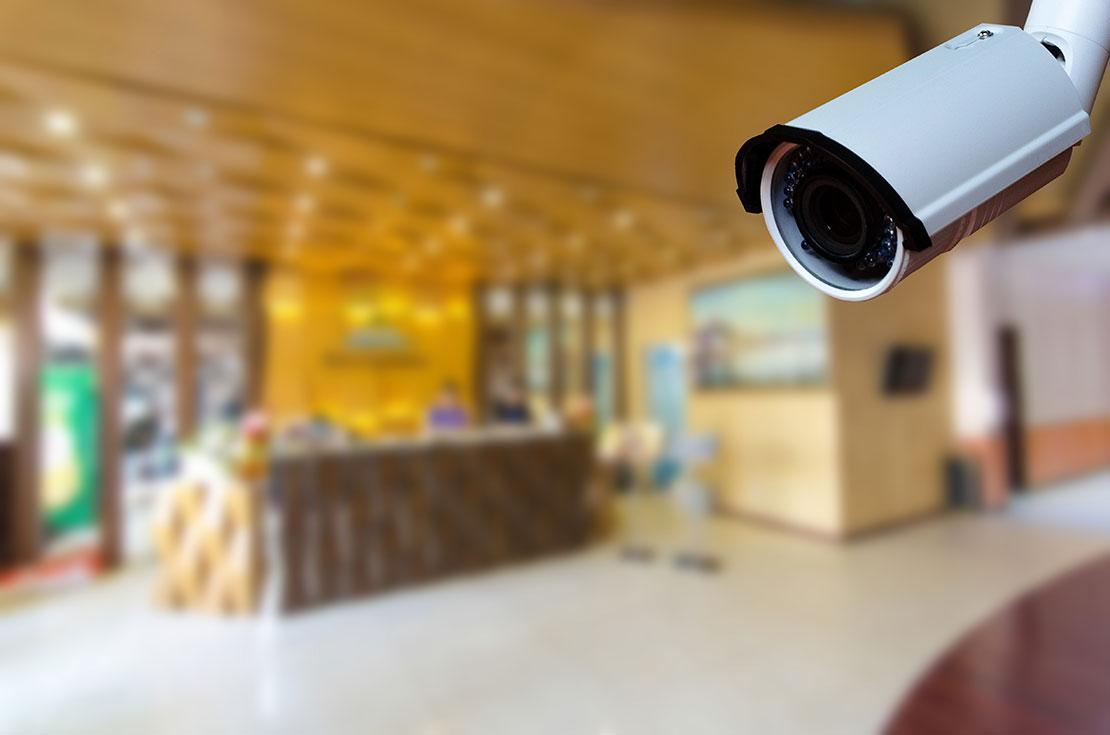tutu: (723, 0, 1110, 331)
